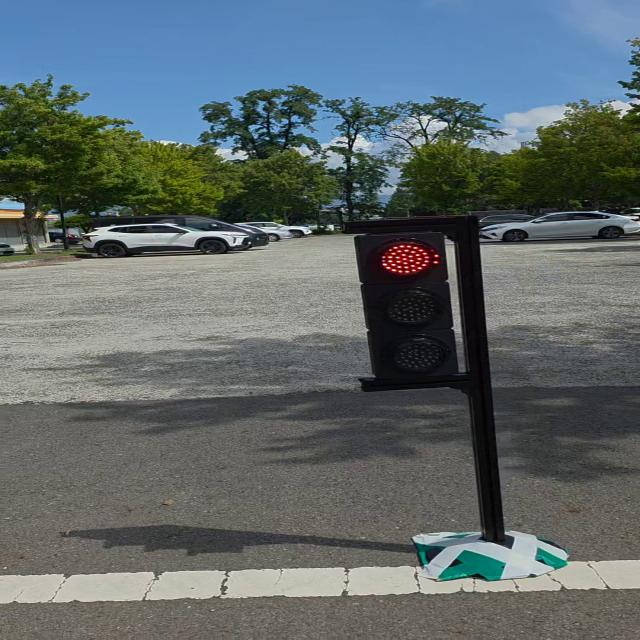red: (326, 212, 513, 396)
